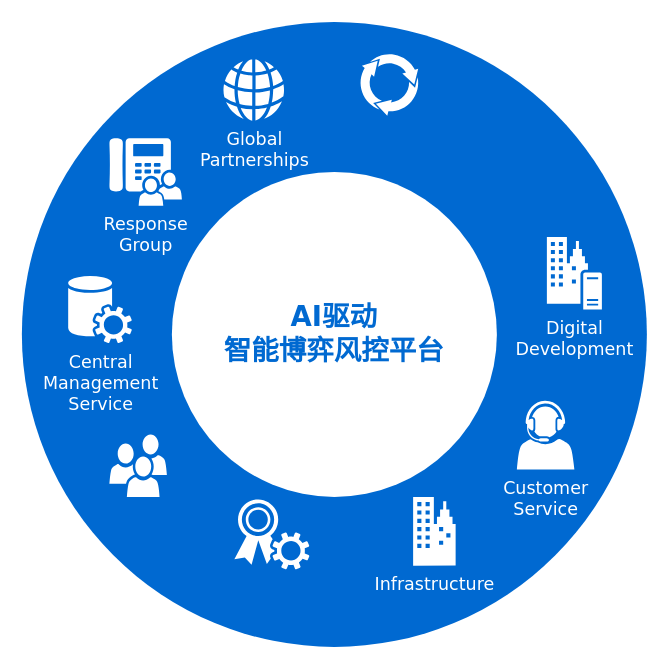
The diagram is 668 pixels wide and 668 high, and some of its shapes have lost their labels. The shapes that lost their labels are listed below. From the top down, each one's centre as x and y in pixels, then its label:
pixel 389 83: 模型自生产
pixel 137 465: Community
pixel 271 534: Technology Certificates
